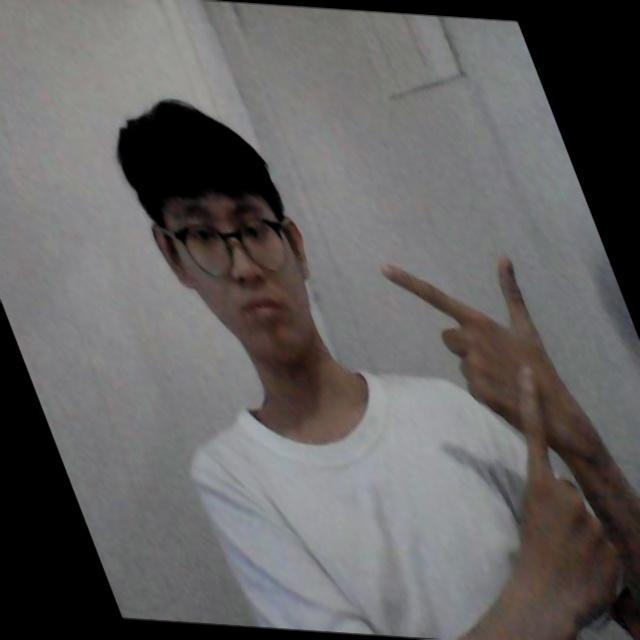Y: (375, 238, 611, 570)
